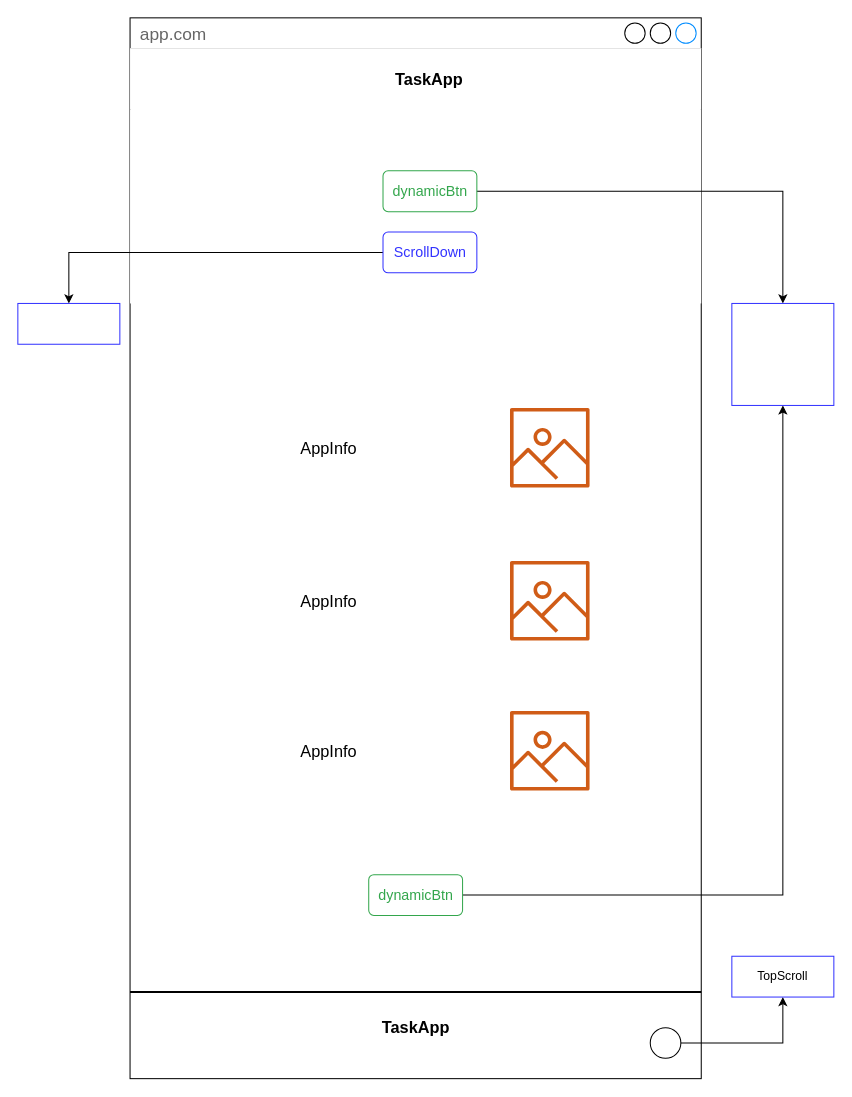
Some shapes in this 852 by 1097 pixel diagram are drawn without their labels. The shapes that lost their labels are listed below. From the top down, each one's centre as x and y in pixels, then its label:
At pixel 68 323: "Scroll zu info".
At pixel 782 353: "link zu login/signup oder Desk-Board (abhängig von status)".
At pixel 665 1042: "Top".
